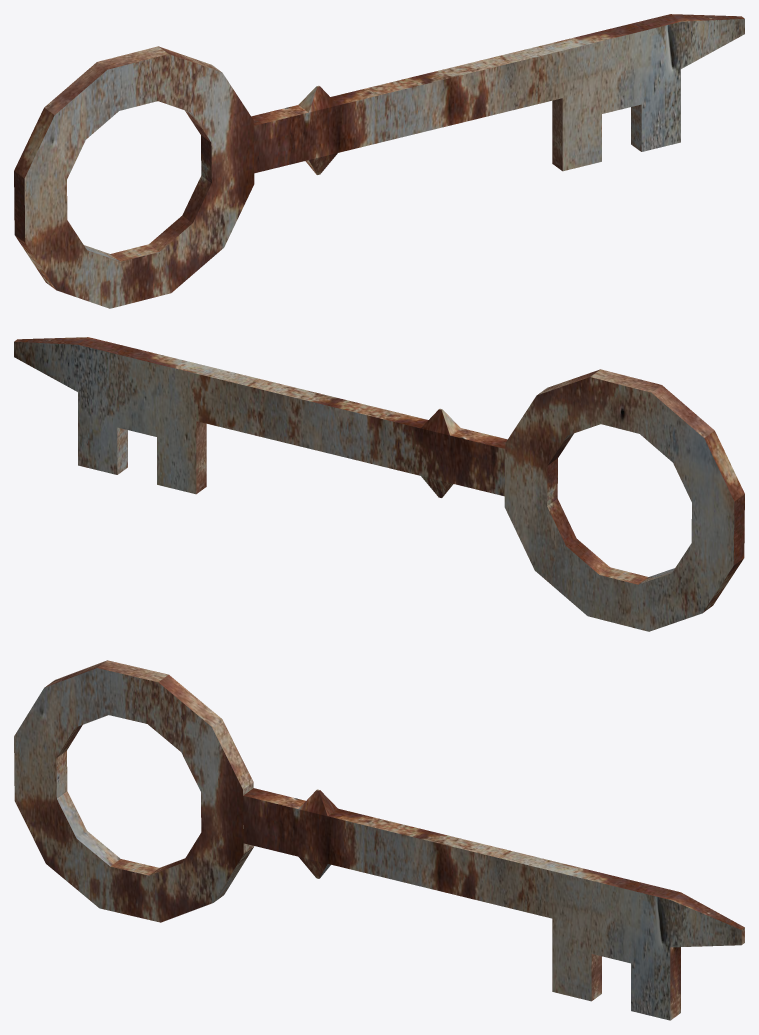
File: key.glb
3 renders of one model, top to bottom at view 1: azimuth 30°, elevation 25°; view 2: azimuth 150°, elevation 25°; view 3: azimuth 330°, elevation 25°, orthographic.
Visible parts, largest first — view 1: Cube; view 2: Cube; view 3: Cube.
Boxes of the visible parts, x1,y1,x2,y2 form: Cube: [14, 14, 744, 308]; Cube: [14, 337, 744, 631]; Cube: [14, 660, 744, 1020].
Bounding box in the file's own units: 0.9615 × 0.3051 × 0.0243.
1 material, 1 textured.
